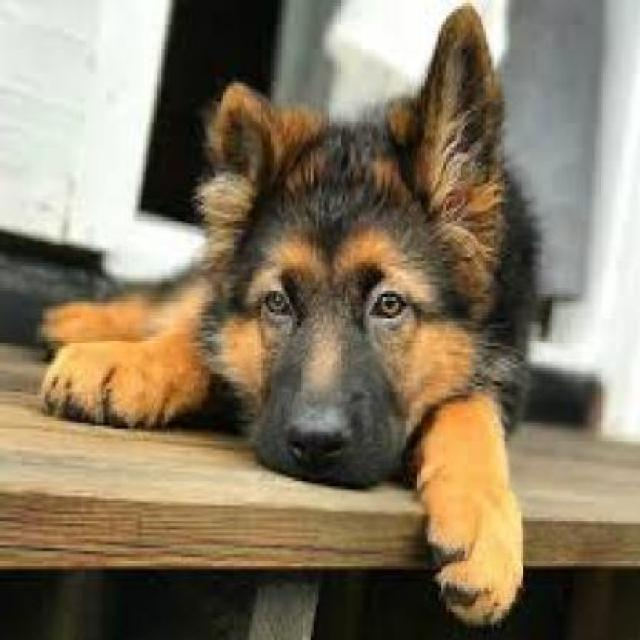animals: (37, 6, 538, 603)
